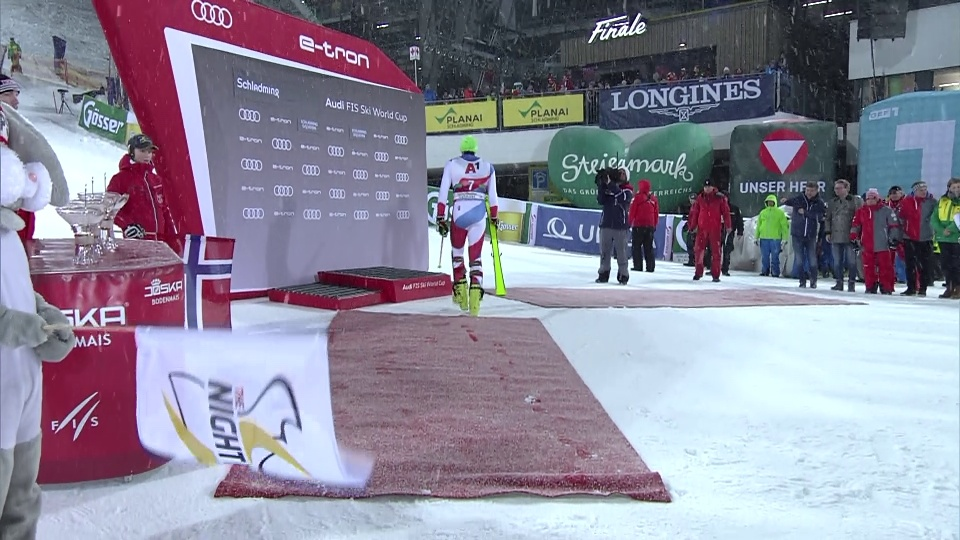a1: (464, 161, 482, 176)
audi: (188, 1, 237, 36), (239, 158, 267, 176), (240, 206, 268, 224), (270, 137, 295, 155), (238, 109, 264, 126), (272, 184, 296, 200), (300, 164, 323, 179), (325, 146, 347, 161), (328, 188, 349, 202), (350, 171, 372, 183), (372, 151, 392, 164), (352, 211, 373, 223), (392, 133, 411, 146), (374, 192, 393, 204), (394, 210, 413, 222), (394, 173, 413, 184)
etron: (297, 36, 374, 71), (240, 184, 267, 195)
goesser: (81, 100, 132, 140), (494, 216, 523, 238)
kronenzeitung: (147, 278, 182, 311)
longines: (608, 79, 778, 125)
steiermark: (556, 129, 712, 188)
uniqa: (542, 212, 632, 257)
unserheer: (745, 131, 827, 192)
